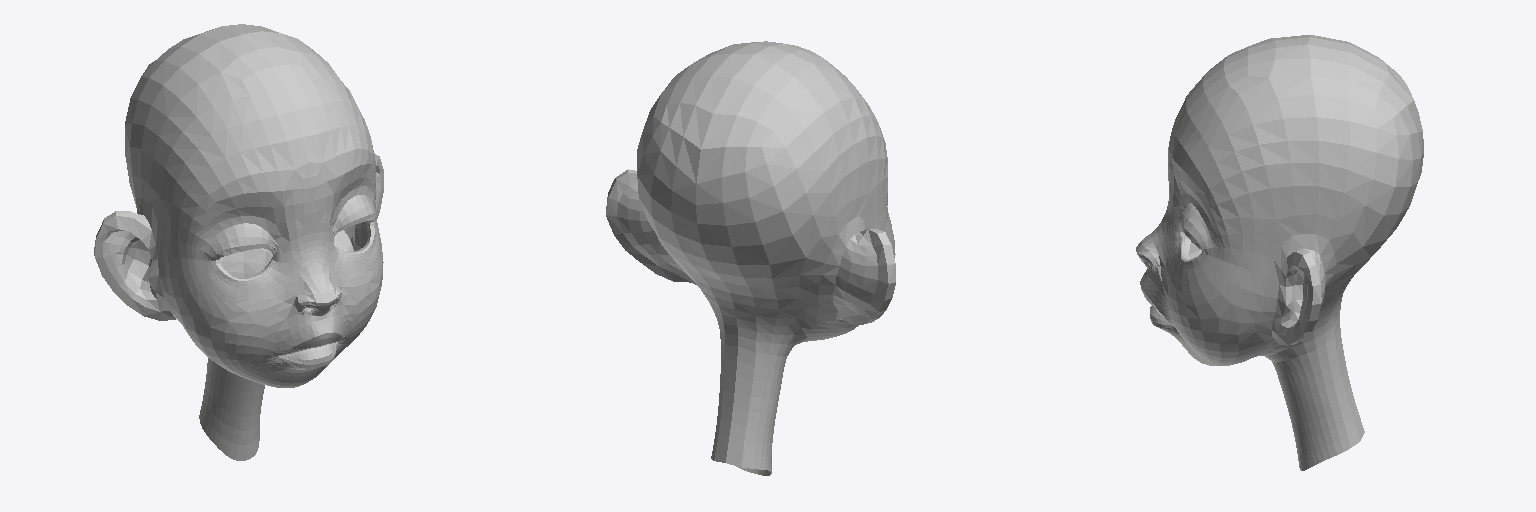
Rendered from noseWrinkler.obj.
3 views of the same model, side by side, from view 1: azimuth 30°, elevation 25°; view 2: azimuth 150°, elevation 25°; view 3: azimuth 270°, elevation 25° (orthographic).
Parts seen in each view (by area): view 1: ZBrushPolyMesh3D; view 2: ZBrushPolyMesh3D; view 3: ZBrushPolyMesh3D.
Boxes of the visible parts, x1=… form: ZBrushPolyMesh3D: x1=94, y1=24, x2=383, y2=460; ZBrushPolyMesh3D: x1=606, y1=41, x2=895, y2=475; ZBrushPolyMesh3D: x1=1136, y1=35, x2=1423, y2=470.
Size of the model in its own units: 5.74 by 8.03 by 4.96.